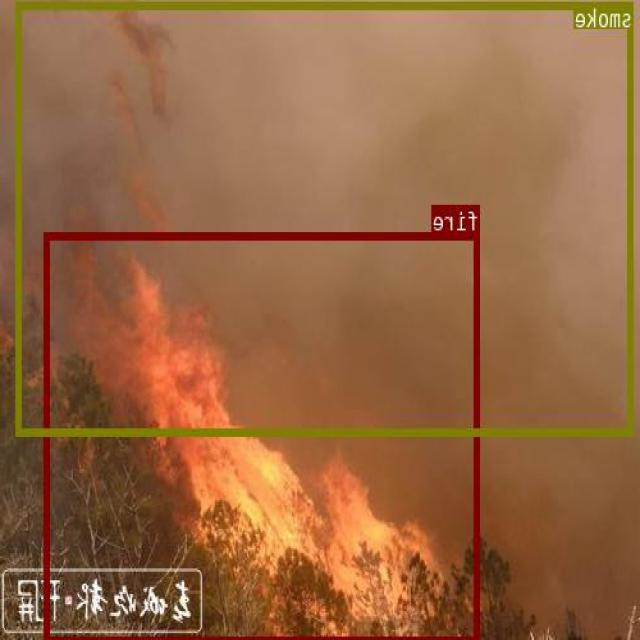fire: (46, 230, 481, 640)
smoke: (18, 1, 634, 434)
